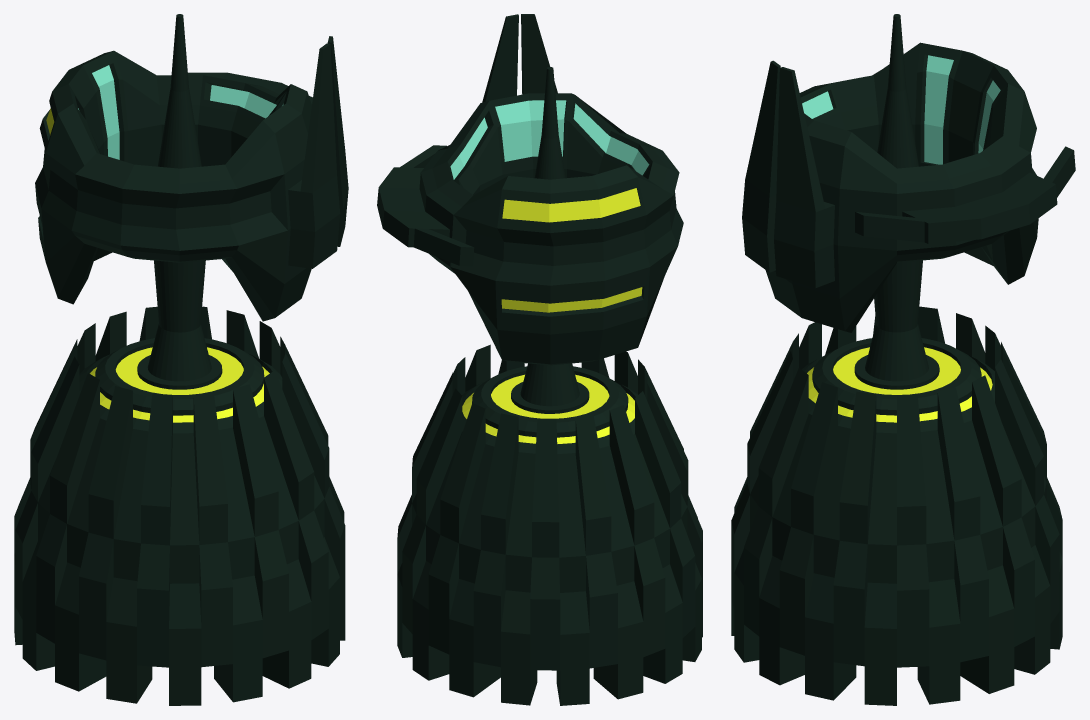
File: EnergyTower.fbx
3 views of the same model, side by side, from view 1: azimuth 30°, elevation 25°; view 2: azimuth 150°, elevation 25°; view 3: azimuth 270°, elevation 25° (orthographic). The views are drawn at different scales.
Parts seen in each view (by area): view 1: Tower, Torus.002; view 2: Tower, Torus.002; view 3: Tower, Torus.002.
Part boxes in pixels (x1=…): Tower: x1=14, y1=14, x2=345, y2=705; Torus.002: x1=35, y1=36, x2=348, y2=321; Tower: x1=397, y1=67, x2=702, y2=705; Torus.002: x1=377, y1=14, x2=683, y2=365; Tower: x1=731, y1=14, x2=1062, y2=705; Torus.002: x1=742, y1=42, x2=1075, y2=332.
Bounding box in the file's own units: 871 × 1730 × 871.
